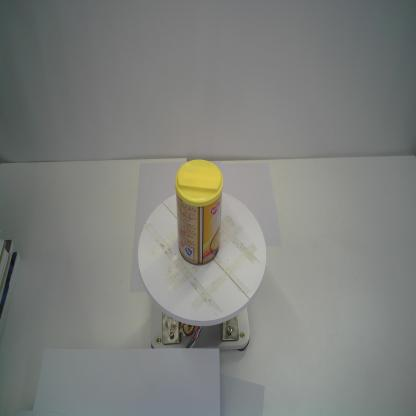Canned Food: (174, 158, 224, 265)
